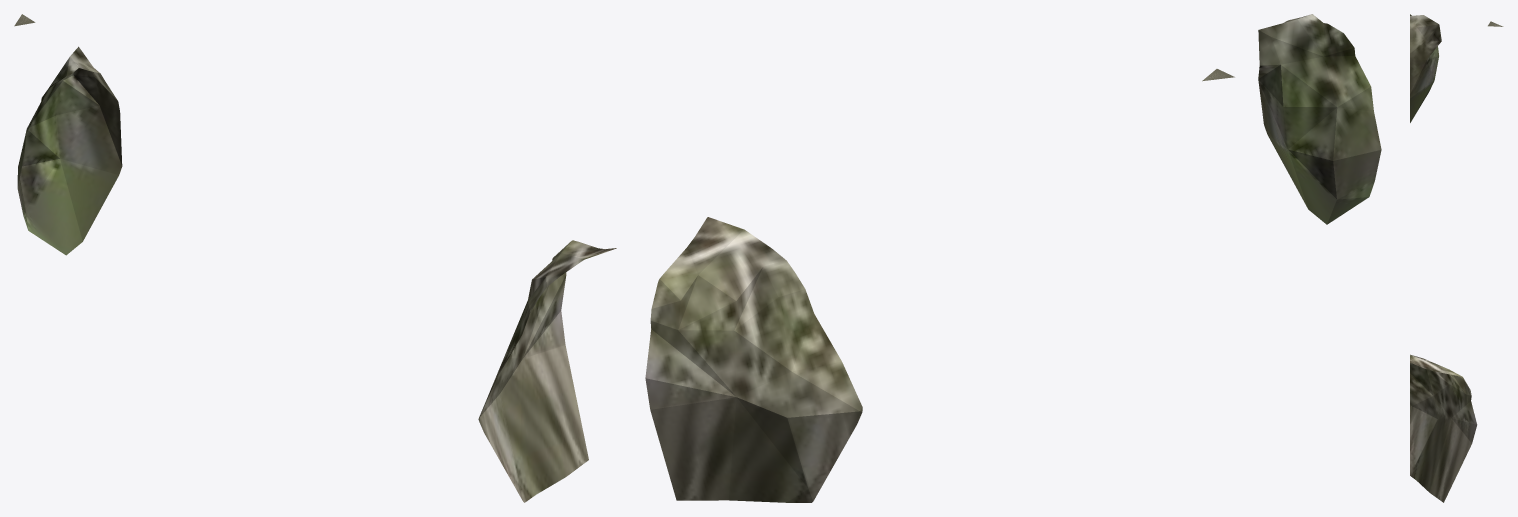
3 renders of one model, left to right at view 1: azimuth 30°, elevation 25°; view 2: azimuth 150°, elevation 25°; view 3: azimuth 270°, elevation 25°, orthographic. The views are drawn at different scales.
Bounding box in the file's own units: 2.52 × 2.19 × 0.5656.
1 material, 1 textured.
